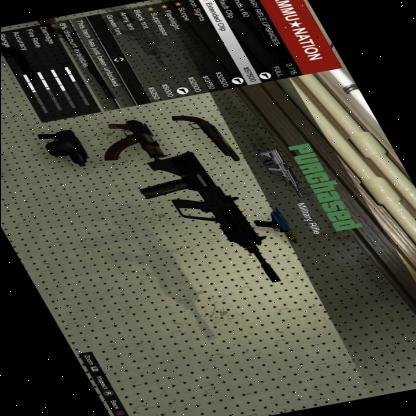rifle: (118, 144, 286, 296)
